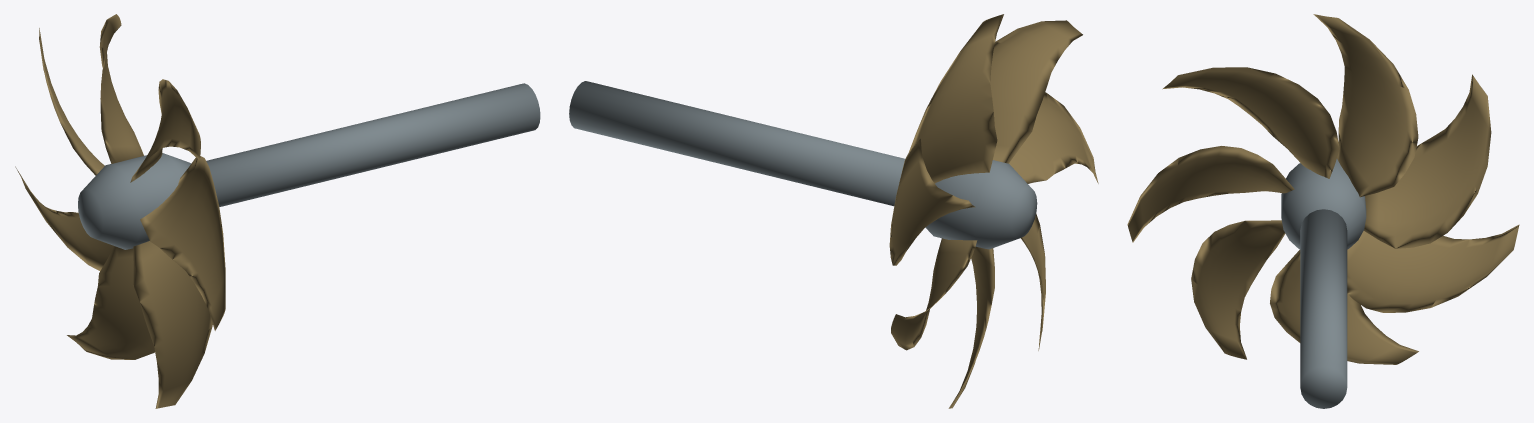
Rendered from US_PROP_LosAngeles_LOD1.fbx.
The picture shows the model from 3 angles, left to right: view 1: azimuth 30°, elevation 25°; view 2: azimuth 150°, elevation 25°; view 3: azimuth 270°, elevation 25°; orthographic projection. The views are drawn at different scales.
Visible parts, largest first — view 1: US_PROP_LosAngeles_LOD1_Shaft.001, US_PROP_LosAngeles_LOD1_Blade_04.001, US_PROP_LosAngeles_LOD1_Blade_03.001, US_PROP_LosAngeles_LOD1_Hub.001, US_PROP_LosAngeles_LOD1_Blade_05.001, US_PROP_LosAngeles_LOD1_Blade_01.001, US_PROP_LosAngeles_LOD1_Blade_02.001, US_PROP_LosAngeles_LOD1_Blade_06.001, US_PROP_LosAngeles_LOD1_Blade_00.001; view 2: US_PROP_LosAngeles_LOD1_Shaft.001, US_PROP_LosAngeles_LOD1_Blade_01.001, US_PROP_LosAngeles_LOD1_Blade_02.001, US_PROP_LosAngeles_LOD1_Hub.001, US_PROP_LosAngeles_LOD1_Blade_03.001, US_PROP_LosAngeles_LOD1_Blade_00.001, US_PROP_LosAngeles_LOD1_Blade_06.001, US_PROP_LosAngeles_LOD1_Blade_05.001, US_PROP_LosAngeles_LOD1_Blade_04.001; view 3: US_PROP_LosAngeles_LOD1_Blade_00.001, US_PROP_LosAngeles_LOD1_Blade_01.001, US_PROP_LosAngeles_LOD1_Blade_06.001, US_PROP_LosAngeles_LOD1_Shaft.001, US_PROP_LosAngeles_LOD1_Blade_02.001, US_PROP_LosAngeles_LOD1_Blade_04.001, US_PROP_LosAngeles_LOD1_Blade_03.001, US_PROP_LosAngeles_LOD1_Blade_05.001, US_PROP_LosAngeles_LOD1_Hub.001.
Part boxes in pixels (x1,y1,x2,y2): US_PROP_LosAngeles_LOD1_Shaft.001: [206, 83, 540, 206]; US_PROP_LosAngeles_LOD1_Blade_04.001: [133, 241, 212, 408]; US_PROP_LosAngeles_LOD1_Blade_03.001: [140, 156, 225, 330]; US_PROP_LosAngeles_LOD1_Hub.001: [78, 153, 191, 249]; US_PROP_LosAngeles_LOD1_Blade_05.001: [67, 246, 154, 359]; US_PROP_LosAngeles_LOD1_Blade_01.001: [99, 14, 143, 163]; US_PROP_LosAngeles_LOD1_Blade_02.001: [130, 79, 200, 182]; US_PROP_LosAngeles_LOD1_Blade_06.001: [15, 166, 113, 270]; US_PROP_LosAngeles_LOD1_Blade_00.001: [39, 28, 104, 175]; US_PROP_LosAngeles_LOD1_Shaft.001: [569, 81, 905, 206]; US_PROP_LosAngeles_LOD1_Blade_01.001: [908, 14, 1003, 183]; US_PROP_LosAngeles_LOD1_Blade_02.001: [990, 20, 1082, 163]; US_PROP_LosAngeles_LOD1_Hub.001: [925, 160, 1037, 249]; US_PROP_LosAngeles_LOD1_Blade_03.001: [1009, 92, 1098, 183]; US_PROP_LosAngeles_LOD1_Blade_00.001: [889, 138, 975, 265]; US_PROP_LosAngeles_LOD1_Blade_06.001: [891, 238, 977, 350]; US_PROP_LosAngeles_LOD1_Blade_05.001: [948, 246, 994, 408]; US_PROP_LosAngeles_LOD1_Blade_04.001: [1020, 213, 1045, 350]; US_PROP_LosAngeles_LOD1_Blade_00.001: [1364, 74, 1491, 248]; US_PROP_LosAngeles_LOD1_Blade_01.001: [1313, 14, 1418, 197]; US_PROP_LosAngeles_LOD1_Blade_06.001: [1347, 224, 1519, 312]; US_PROP_LosAngeles_LOD1_Shaft.001: [1300, 209, 1347, 408]; US_PROP_LosAngeles_LOD1_Blade_02.001: [1162, 67, 1339, 178]; US_PROP_LosAngeles_LOD1_Blade_04.001: [1191, 220, 1285, 359]; US_PROP_LosAngeles_LOD1_Blade_03.001: [1127, 146, 1294, 242]; US_PROP_LosAngeles_LOD1_Blade_05.001: [1270, 250, 1418, 364]; US_PROP_LosAngeles_LOD1_Hub.001: [1281, 159, 1366, 249].
Size of the model in its own units: 612 by 485 by 474.
